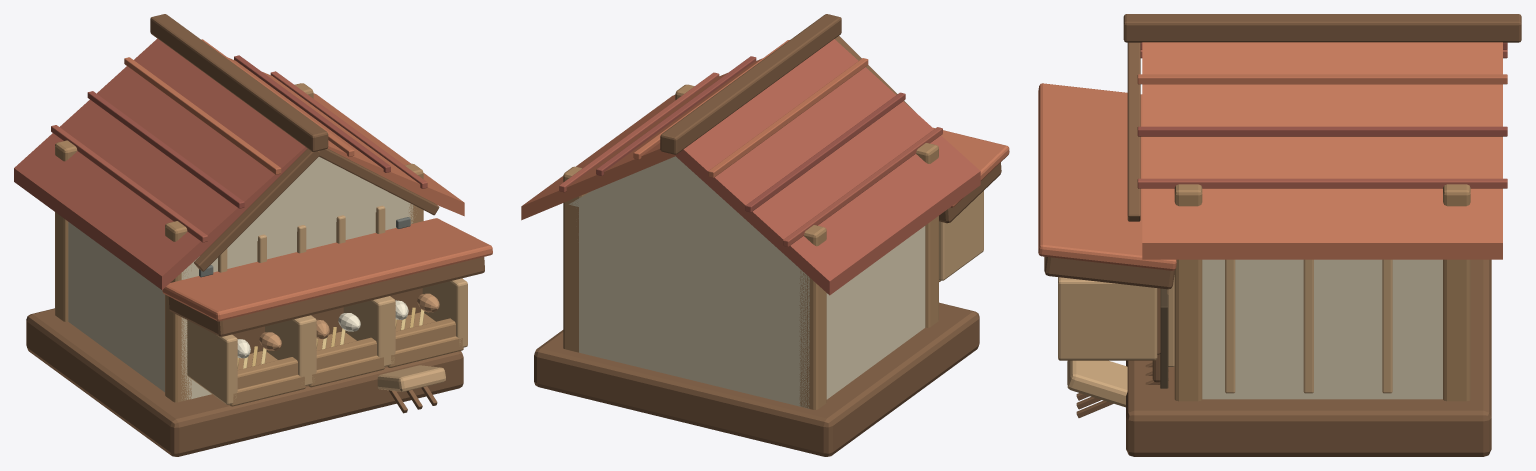
The model's file is galinheiro.glb.
3 renders of one model, left to right at view 1: azimuth 30°, elevation 25°; view 2: azimuth 150°, elevation 25°; view 3: azimuth 270°, elevation 25°, orthographic. The views are drawn at different scales.
Visible parts, largest first — view 1: Galinheiro | Telhas vermelhas 0, Galinheiro | Madeira escura, Galinheiro | Pintura marfim, Galinheiro | Telhas vermelhas 1, Galinheiro | Madeira mel, Galinheiro | Tábuas claras, Galinheiro | Telhas vermelhas 2, Galinheiro | Casca marrom, Galinheiro | Casca creme; view 2: Galinheiro | Pintura marfim, Galinheiro | Telhas vermelhas 0, Galinheiro | Madeira escura, Galinheiro | Telhas vermelhas 1, Galinheiro | Madeira mel, Galinheiro | Telhas vermelhas 2, Galinheiro | Tábuas claras; view 3: Galinheiro | Telhas vermelhas 1, Galinheiro | Madeira escura, Galinheiro | Pintura marfim, Galinheiro | Tábuas claras, Galinheiro | Madeira mel, Galinheiro | Telhas vermelhas 2, Galinheiro | Telhas vermelhas 0, Abertura escura da portinhola.
Boxes of the visible parts, x1=… form: Galinheiro | Telhas vermelhas 0: x1=14, y1=38, x2=427, y2=289; Galinheiro | Madeira escura: x1=26, y1=14, x2=484, y2=456; Galinheiro | Pintura marfim: x1=68, y1=157, x2=416, y2=399; Galinheiro | Telhas vermelhas 1: x1=124, y1=39, x2=492, y2=321; Galinheiro | Madeira mel: x1=55, y1=83, x2=463, y2=406; Galinheiro | Tábuas claras: x1=187, y1=205, x2=467, y2=404; Galinheiro | Telhas vermelhas 2: x1=87, y1=55, x2=390, y2=208; Galinheiro | Casca marrom: x1=259, y1=293, x2=439, y2=350; Galinheiro | Casca creme: x1=237, y1=300, x2=408, y2=358; Galinheiro | Pintura marfim: x1=569, y1=156, x2=925, y2=408; Galinheiro | Telhas vermelhas 0: x1=559, y1=39, x2=980, y2=295; Galinheiro | Madeira escura: x1=534, y1=14, x2=1001, y2=456; Galinheiro | Telhas vermelhas 1: x1=521, y1=40, x2=1009, y2=220; Galinheiro | Madeira mel: x1=563, y1=84, x2=940, y2=409; Galinheiro | Telhas vermelhas 2: x1=596, y1=56, x2=905, y2=212; Galinheiro | Tábuas claras: x1=939, y1=191, x2=983, y2=280; Galinheiro | Telhas vermelhas 1: x1=1038, y1=42, x2=1507, y2=270; Galinheiro | Madeira escura: x1=1044, y1=14, x2=1521, y2=456; Galinheiro | Pintura marfim: x1=1202, y1=259, x2=1442, y2=399; Galinheiro | Tábuas claras: x1=1058, y1=259, x2=1392, y2=407; Galinheiro | Madeira mel: x1=1058, y1=184, x2=1470, y2=401; Galinheiro | Telhas vermelhas 2: x1=1137, y1=42, x2=1507, y2=136; Galinheiro | Telhas vermelhas 0: x1=1137, y1=49, x2=1507, y2=188; Abertura escura da portinhola: x1=1160, y1=288, x2=1168, y2=388.
Bounding box in the file's own units: 1.84 × 1.7 × 2.09.
